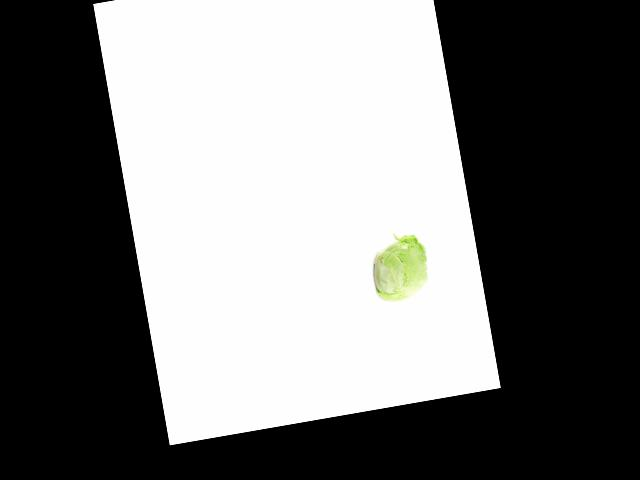lettuce: (365, 234, 436, 307)
